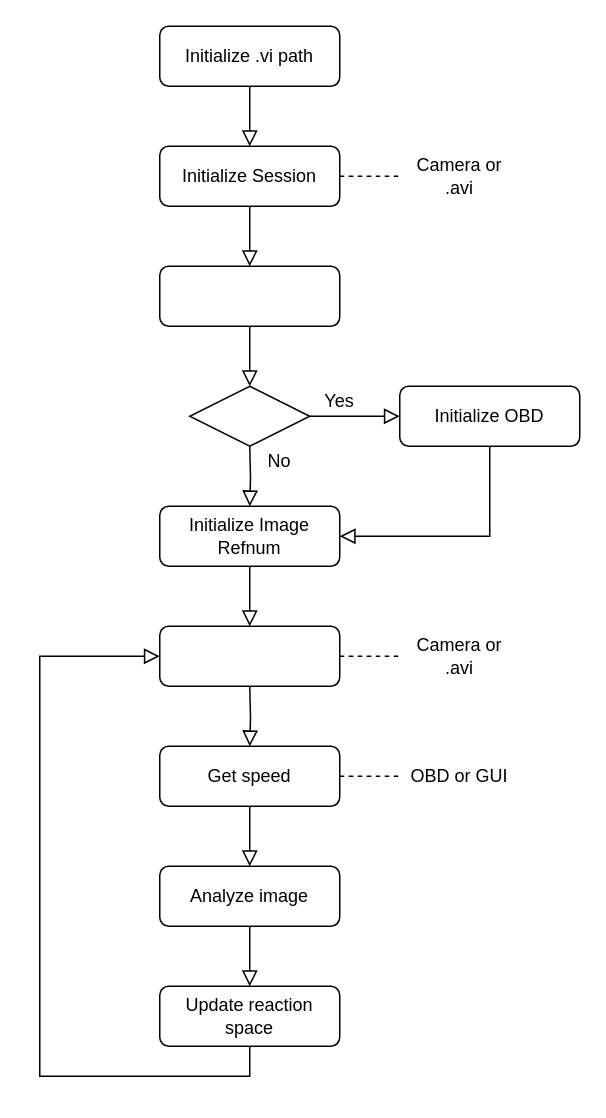
This 606x1118 diagram has some shape labels left out. Each missing label, with the centre of its shape:
Get frame: point 249,655
Initialize TensorFlow model: point 249,295
Use OBD?: point 249,415
